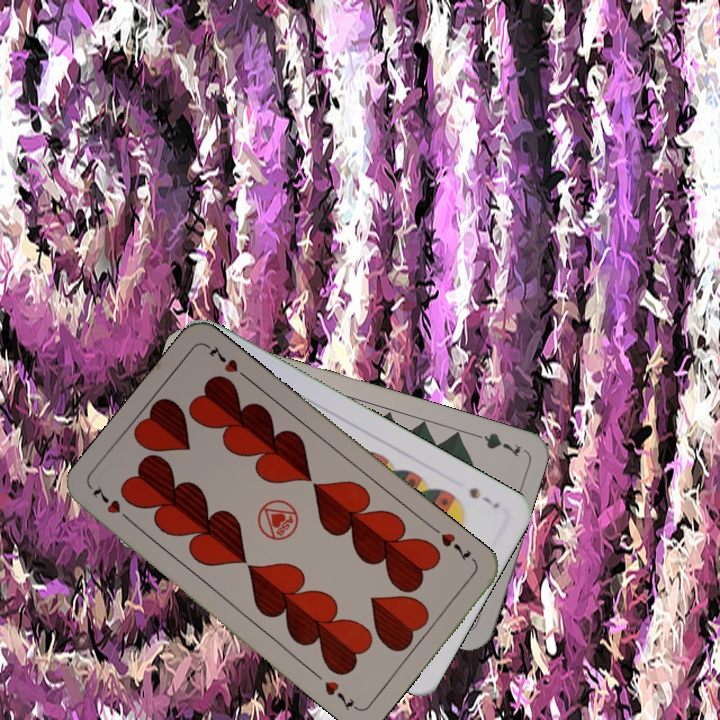G7: (466, 428, 524, 460)
H7: (88, 482, 136, 527), (436, 529, 474, 564)
S7: (465, 483, 502, 511)
